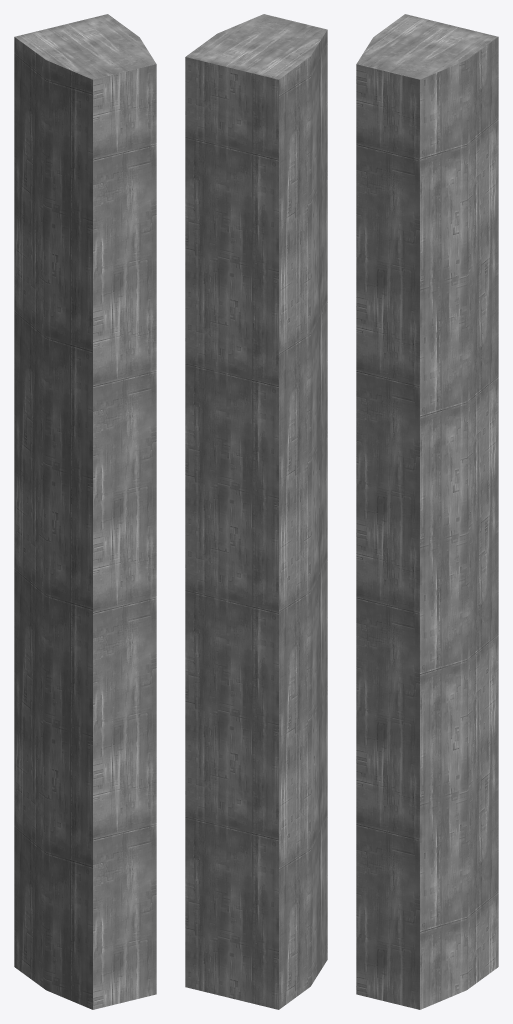
Rendered from Bridge_Base.fbx.
3 renders of one model, left to right at view 1: azimuth 30°, elevation 25°; view 2: azimuth 150°, elevation 25°; view 3: azimuth 330°, elevation 25°, orthographic.
Visible parts, largest first — view 1: Bridge_Base; view 2: Bridge_Base; view 3: Bridge_Base.
Part boxes in pixels (<box>): Bridge_Base: <box>14,14,156,1009</box>; Bridge_Base: <box>185,14,327,1009</box>; Bridge_Base: <box>356,14,498,1009</box>.
Bounding box in the file's own units: 955 × 9083 × 1126.
